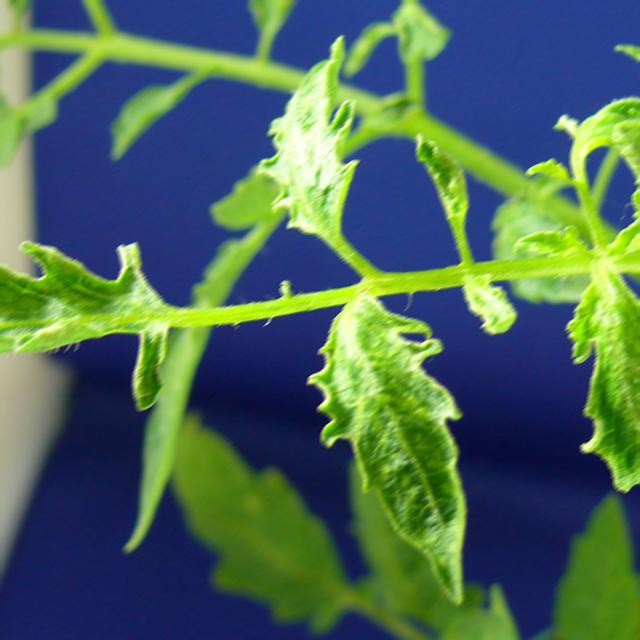Tomato leaf mosaic virus: (291, 291, 499, 613), (0, 244, 198, 401), (249, 26, 370, 246), (532, 267, 640, 510)
